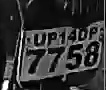1: (60, 29, 67, 45)
4: (66, 28, 80, 43)
5: (66, 45, 84, 69)
7: (24, 47, 47, 75), (46, 48, 66, 73)
8: (83, 43, 99, 68)
D: (77, 28, 88, 41)
P: (46, 32, 57, 48), (88, 26, 98, 42)
U: (32, 32, 46, 48)
